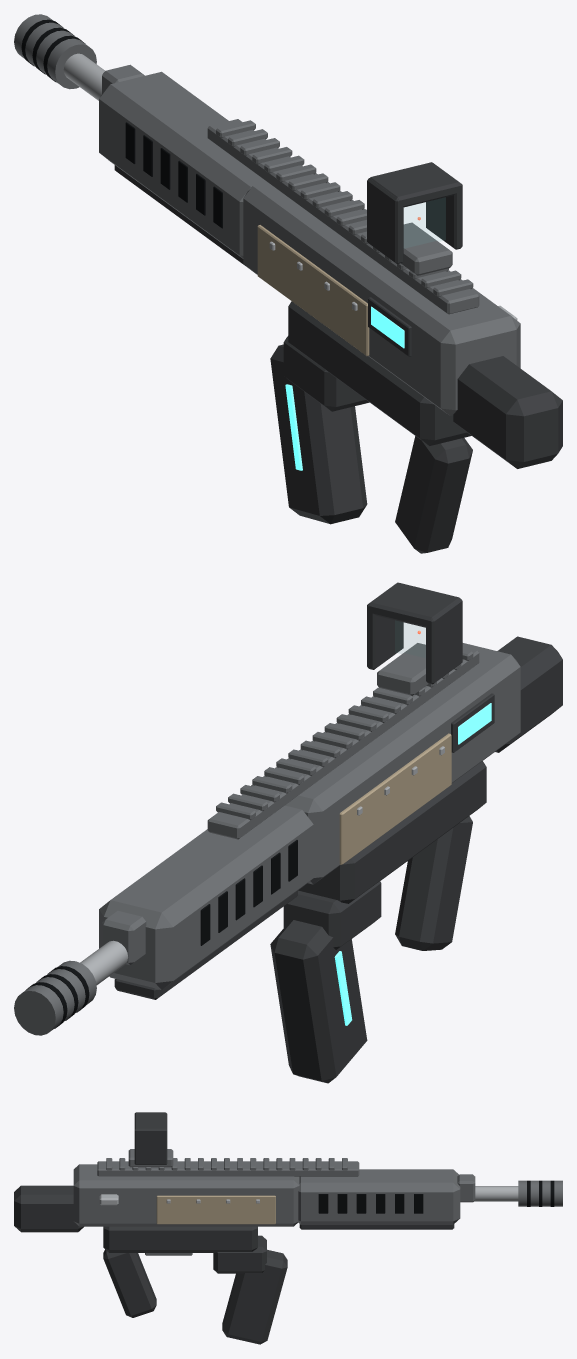
The picture shows the model from 3 angles, top to bottom: view 1: azimuth 30°, elevation 25°; view 2: azimuth 150°, elevation 25°; view 3: azimuth 270°, elevation 25°; orthographic projection. The views are drawn at different scales.
Visible parts, largest first — view 1: Upper receiver, Handguard, Magazine, Stock, Lower receiver, Optic frame, Grip, Receiver plate, Rail teeth, Top rail, Muzzle brake, Magazine well (+8 smaller); view 2: Handguard, Upper receiver, Magazine, Lower receiver, Grip, Optic frame, Receiver plate, Rail teeth, Top rail, Stock, Magazine well, Muzzle brake (+10 smaller); view 3: Upper receiver, Handguard, Lower receiver, Magazine, Receiver plate, Top rail, Stock, Grip, Optic frame, Rail teeth, Magazine well, Vent slots (+6 smaller).
Part boxes in pixels (x1,y1,x2,y2): Upper receiver: [243, 173, 520, 415]; Handguard: [99, 71, 267, 258]; Magazine: [270, 344, 367, 524]; Stock: [453, 356, 562, 468]; Lower receiver: [288, 301, 471, 445]; Optic frame: [367, 162, 462, 263]; Grip: [395, 436, 472, 553]; Receiver plate: [257, 225, 369, 356]; Rail teeth: [216, 120, 473, 296]; Top rail: [207, 119, 479, 314]; Muzzle brake: [14, 14, 96, 89]; Magazine well: [283, 336, 369, 411]; Handguard: [99, 805, 313, 989]; Upper receiver: [251, 643, 520, 884]; Magazine: [270, 920, 367, 1083]; Lower receiver: [298, 761, 486, 903]; Grip: [395, 816, 472, 950]; Optic frame: [367, 582, 462, 684]; Receiver plate: [339, 733, 451, 864]; Rail teeth: [216, 649, 473, 820]; Top rail: [207, 647, 479, 839]; Stock: [495, 636, 562, 752]; Magazine well: [283, 881, 381, 949]; Muzzle brake: [14, 960, 96, 1035]; Upper receiver: [73, 1164, 299, 1226]; Handguard: [298, 1169, 460, 1224]; Lower receiver: [103, 1226, 257, 1252]; Magazine: [222, 1249, 287, 1344]; Receiver plate: [156, 1195, 275, 1224]; Top rail: [97, 1161, 359, 1176]; Stock: [14, 1185, 83, 1232]; Grip: [103, 1249, 156, 1317]; Optic frame: [134, 1112, 167, 1164]; Rail teeth: [106, 1158, 347, 1170]; Magazine well: [213, 1235, 266, 1273]; Vent slots: [318, 1194, 423, 1213].
Size of the model in its own units: 0.1075 by 0.4086 by 0.9225.
